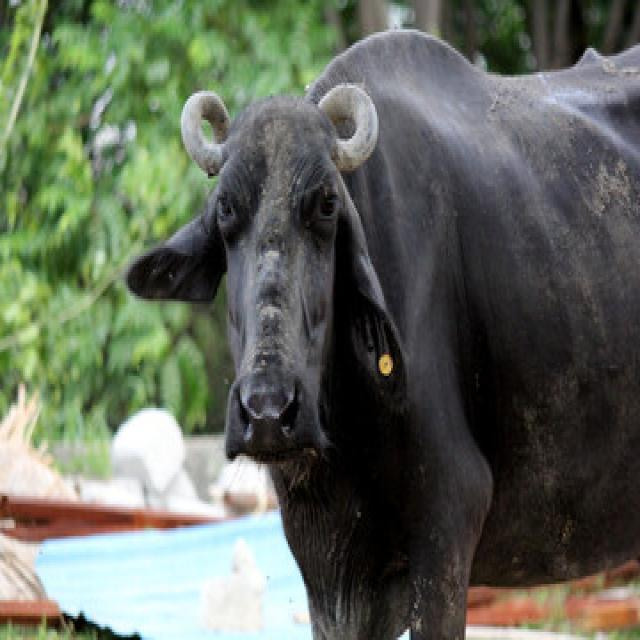Buffalo: (123, 24, 638, 637)
